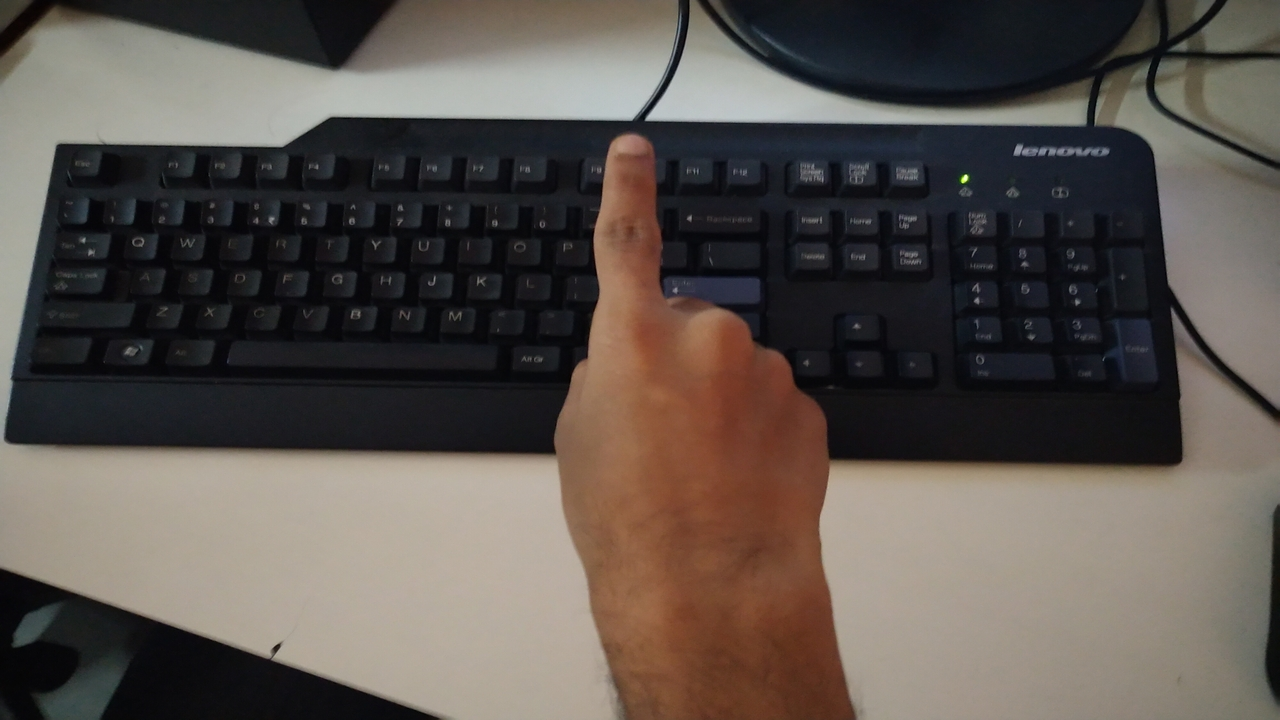fingertip: (602, 126, 660, 186)
